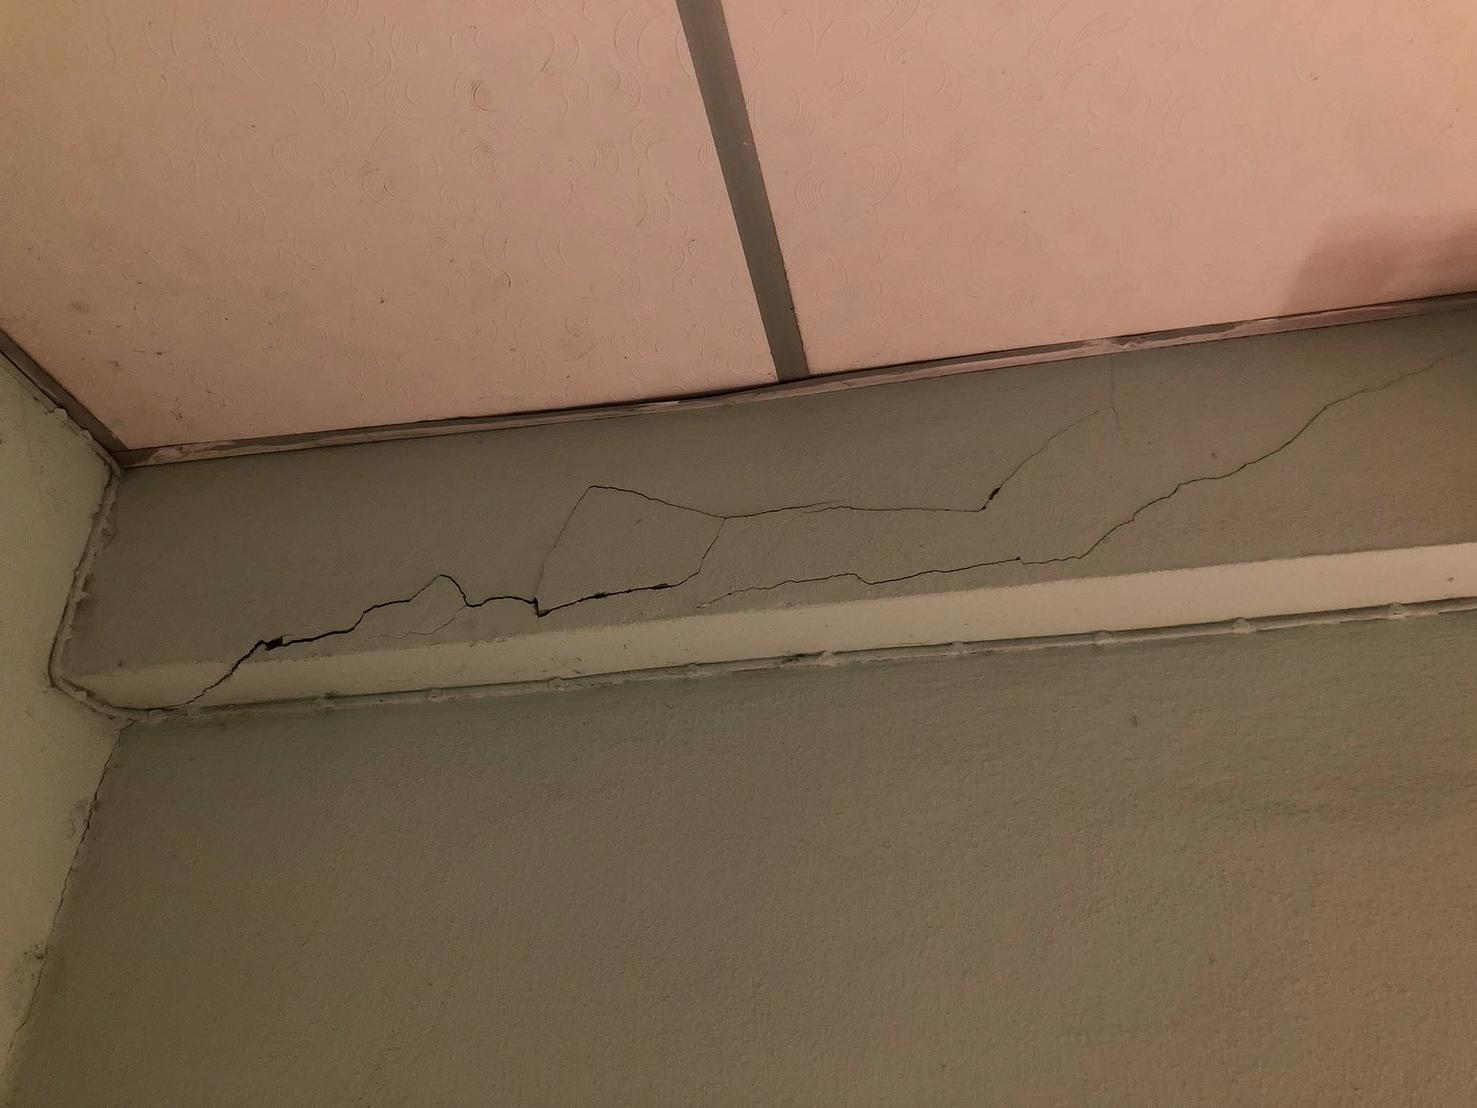High: (92, 371, 1470, 726)
